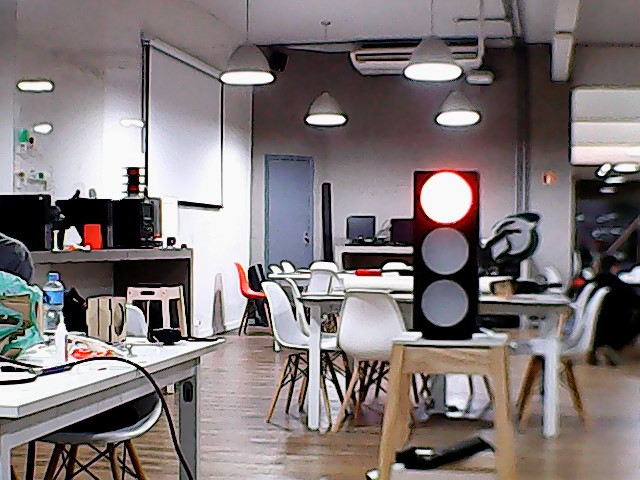vermelho: (411, 167, 481, 341)
